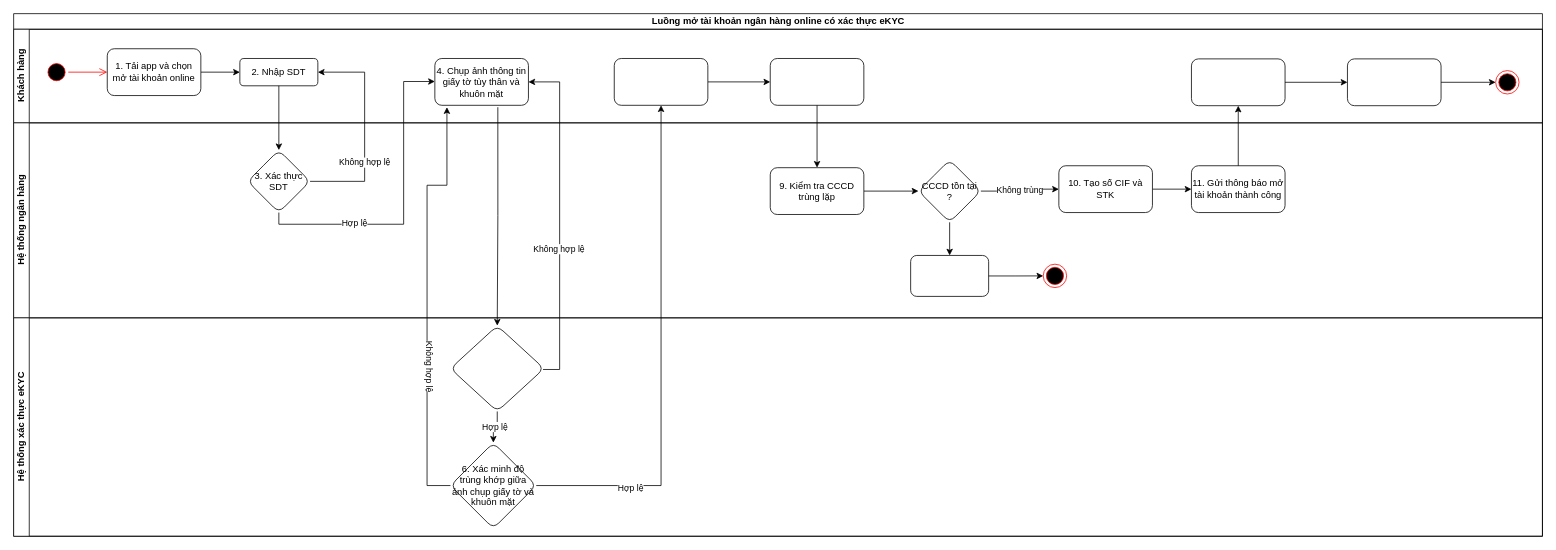
The diagram is 1556 pixels wide and 550 high, and some of its shapes have lost their labels. The centre of each missing label's shape, as x and y in pixels:
"12. Nhận thông tin số tài khoản đã mở" goes at (1238,82).
"13. Thiết lập tài khoản eBanking" goes at (1394,82).
"5. Xác nhận ảnh chụp giấy tờ, khuôn mặt" goes at (497,368).
"7. Bổ sung thông tin đăng ký (Người giới thiệu, điểm giao dịch)" goes at (660,81).
"8. Gửi thông tin khách hàng mở tài khoản" goes at (816,81).
"Từ chối hồ sơ" goes at (949,275).
